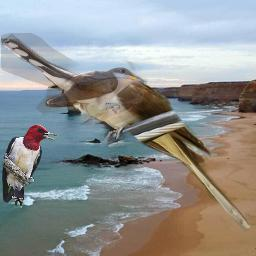Cuckoo: (48, 74, 255, 233), (1, 33, 147, 126)
Woodpecker: (0, 125, 60, 208)
